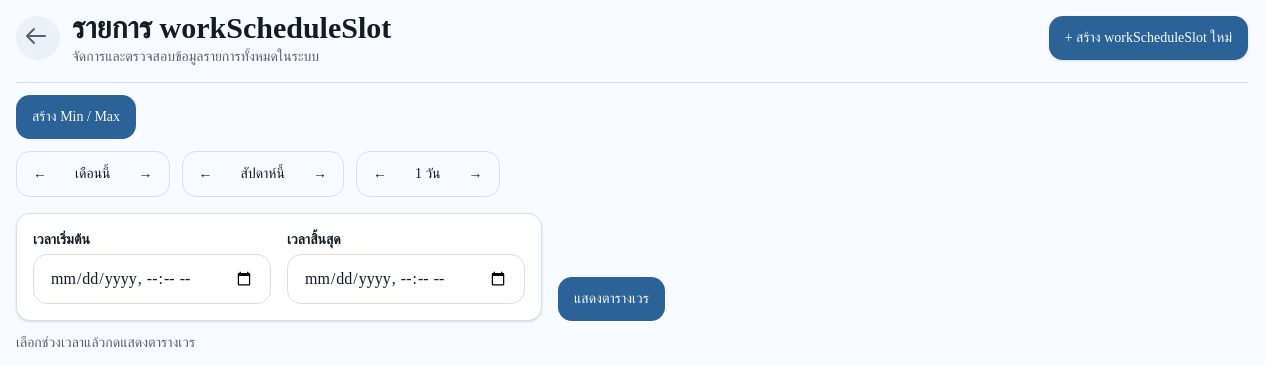
Scenario: Admin slot calendar period controls › moves week arrows repeatedly from the current draft across period and year boundaries
Expected: the button "แสดงตารางเวร" is shown, [558,277,665,321]
Click the button named "สัปดาห์ก่อนหน้า": (206, 174) [186,156,224,192]
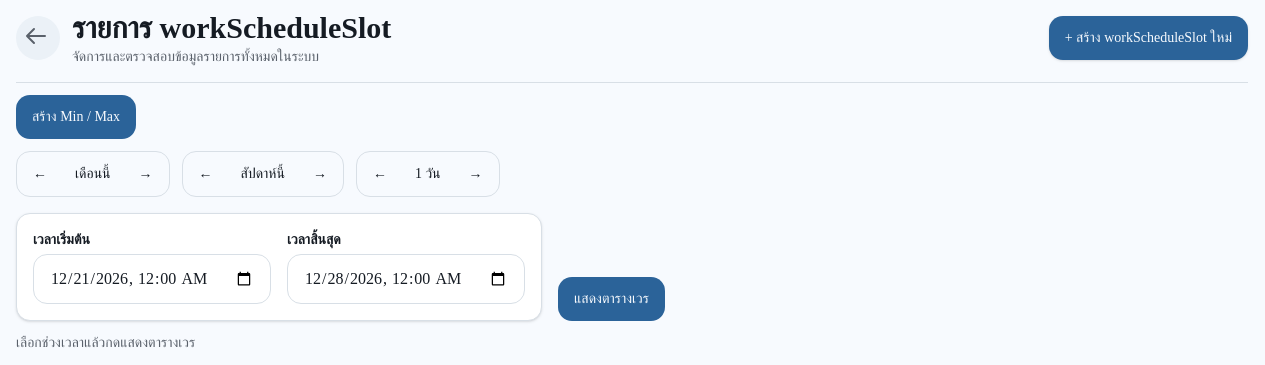
Expected: the number of fields is 2, [33,254,271,304]; [287,254,525,304]
Now the field below "เวลาเริ่มต้น" holds "2026-12-21T00:00", box [33,254,271,304]
Now the field below "เวลาสิ้นสุด" holds "2026-12-28T00:00", box [287,254,525,304]
Click the button named "สัปดาห์ก่อนหน้า": (206, 174) [186,156,224,192]
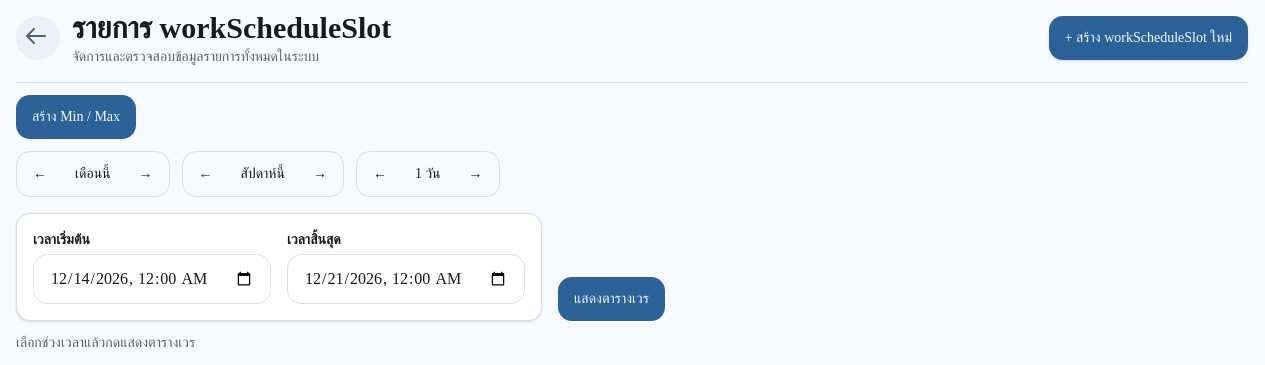
Expected: the number of fields is 2, [33,254,271,304]; [287,254,525,304]
Now the field below "เวลาเริ่มต้น" holds "2026-12-14T00:00", box [33,254,271,304]
Now the field below "เวลาสิ้นสุด" holds "2026-12-21T00:00", box [287,254,525,304]
Click the button named "สัปดาห์ถัดไป": (320, 174) [301,156,339,192]
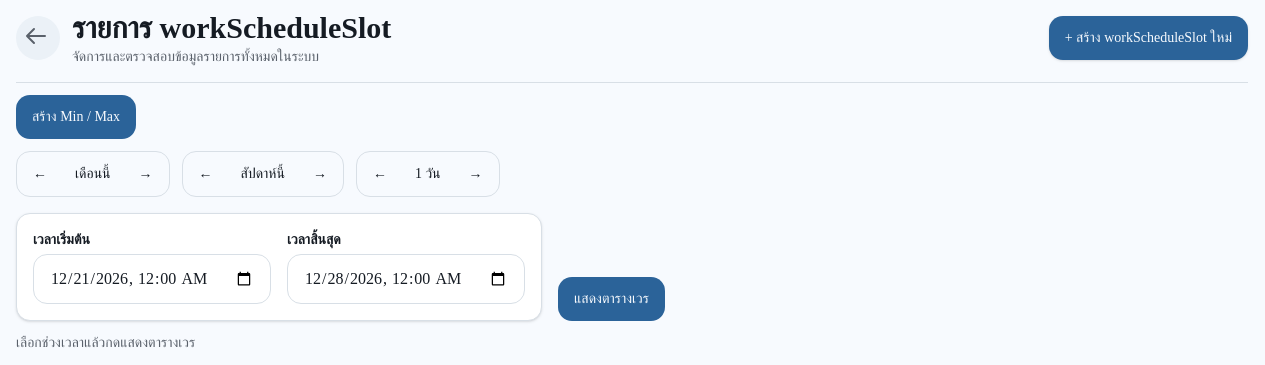
Expected: the number of fields is 2, [33,254,271,304]; [287,254,525,304]
Now the field below "เวลาเริ่มต้น" holds "2026-12-21T00:00", box [33,254,271,304]
Now the field below "เวลาสิ้นสุด" holds "2026-12-28T00:00", box [287,254,525,304]
Click the button named "สัปดาห์ถัดไป": (320, 174) [301,156,339,192]
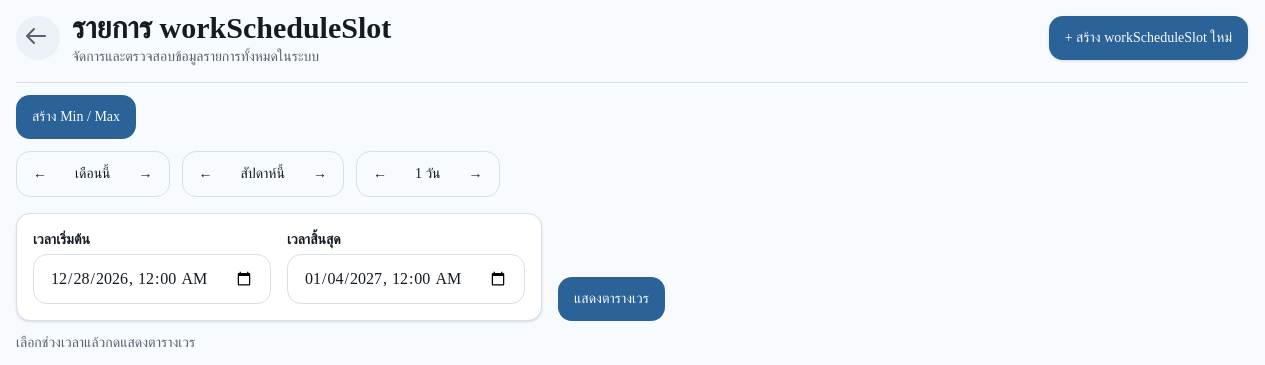
Expected: the number of fields is 2, [33,254,271,304]; [287,254,525,304]
Now the field below "เวลาเริ่มต้น" holds "2026-12-28T00:00", box [33,254,271,304]
Now the field below "เวลาสิ้นสุด" holds "2027-01-04T00:00", box [287,254,525,304]
Click the button named "สัปดาห์ถัดไป": (320, 174) [301,156,339,192]
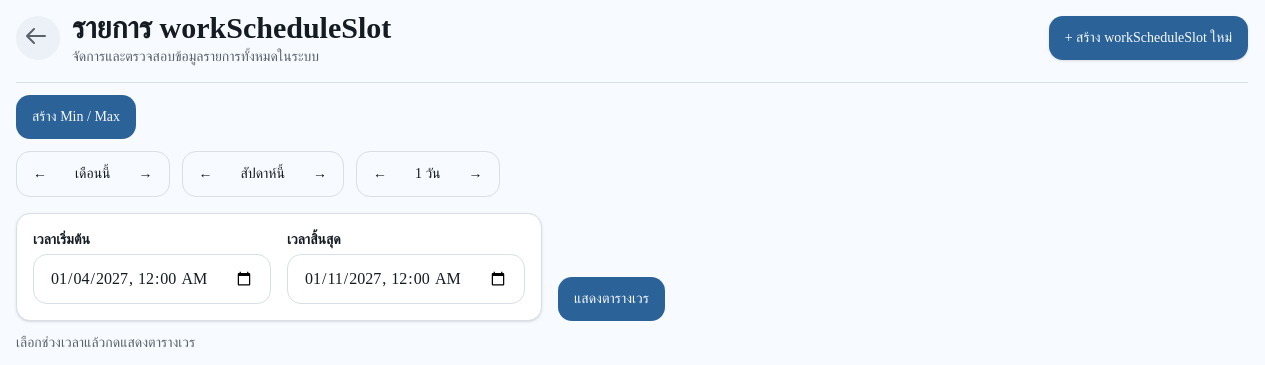
Expected: the number of fields is 2, [33,254,271,304]; [287,254,525,304]
Now the field below "เวลาเริ่มต้น" holds "2027-01-04T00:00", box [33,254,271,304]
Now the field below "เวลาสิ้นสุด" holds "2027-01-11T00:00", box [287,254,525,304]
Click the button named "สัปดาห์ถัดไป": (320, 174) [301,156,339,192]
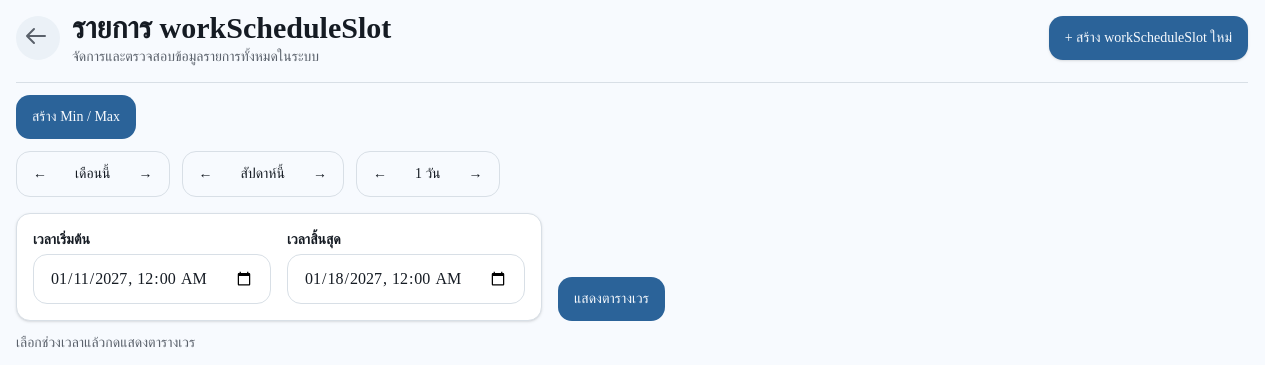
Expected: the number of fields is 2, [33,254,271,304]; [287,254,525,304]
Now the field below "เวลาเริ่มต้น" holds "2027-01-11T00:00", box [33,254,271,304]
Now the field below "เวลาสิ้นสุด" holds "2027-01-18T00:00", box [287,254,525,304]
